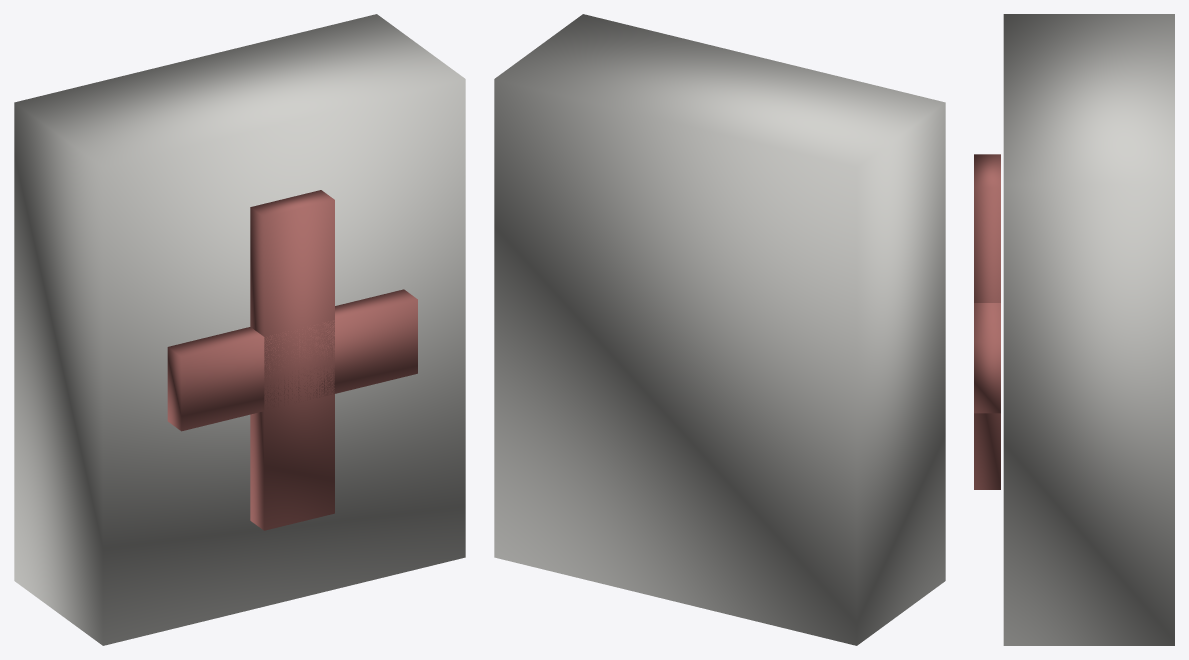
The model's file is first_aid_wall_cabinet__deep.glb.
3 renders of one model, left to right at view 1: azimuth 30°, elevation 25°; view 2: azimuth 150°, elevation 25°; view 3: azimuth 270°, elevation 25°, orthographic. The views are drawn at different scales.
Visible parts, largest first — view 1: world; view 2: world; view 3: world.
Boxes of the visible parts, bbox=[...] form: world: bbox=[14, 14, 465, 645]; world: bbox=[494, 14, 945, 645]; world: bbox=[974, 14, 1174, 645].
Size of the model in its own units: 0.46 by 0.58 by 0.2288.
